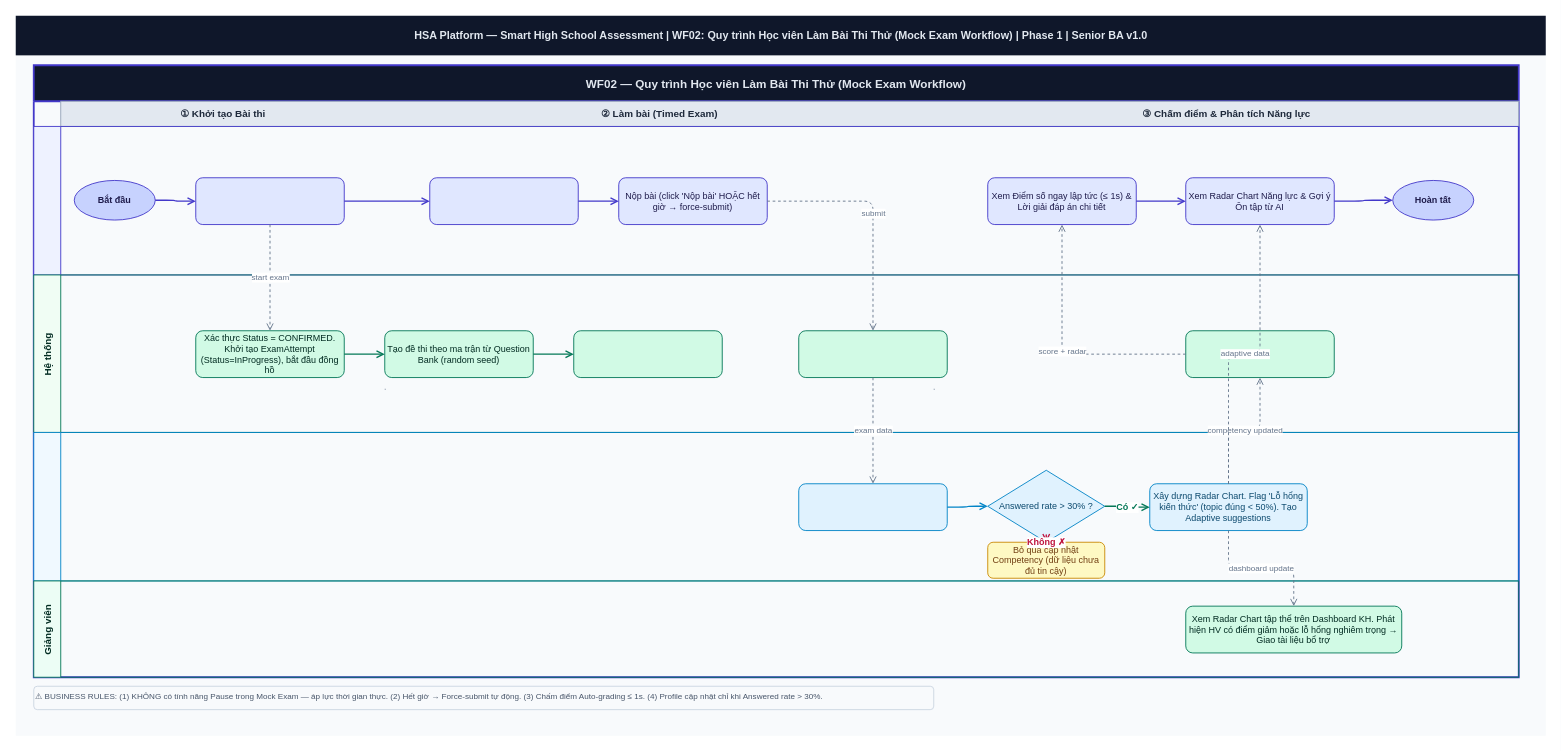
The diagram is 1561 pixels wide and 751 high, and some of its shapes have lost their labels. The shapes that lost their labels are listed below. From the top down, each one's box as (x1, y1, x2, y2) in pixels, then its label:
(195, 177, 344, 225): Vào KH đã ĐK, chọn 'Mock Exam', nhấn 'Bắt đầu làm bài'
(429, 177, 578, 225): Làm bài: Đọc đề, chọn đáp án trắc nghiệm (splitscreen layout)
(33, 126, 1519, 275): Học viên
(573, 330, 722, 378): Lưu tạm câu trả lời (Cache), theo dõi Tab-switch & countdown timer
(798, 330, 947, 378): Auto-grading: Chấm điểm tức thì, cập nhật ExamAttempt = Submitted, lưu Score
(1185, 330, 1334, 378): Cập nhật Competency Profile. Gửi Push Notification (FCM) kết quả
(33, 432, 1519, 581): AI / Adaptive Engine
(798, 483, 947, 531): Nhận ExamAttempt data. Tính điểm từng Topic/Phân môn
